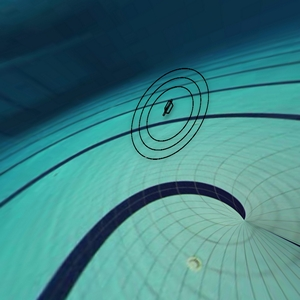circle: (112, 44, 220, 181)
submarine: (161, 97, 178, 118)
